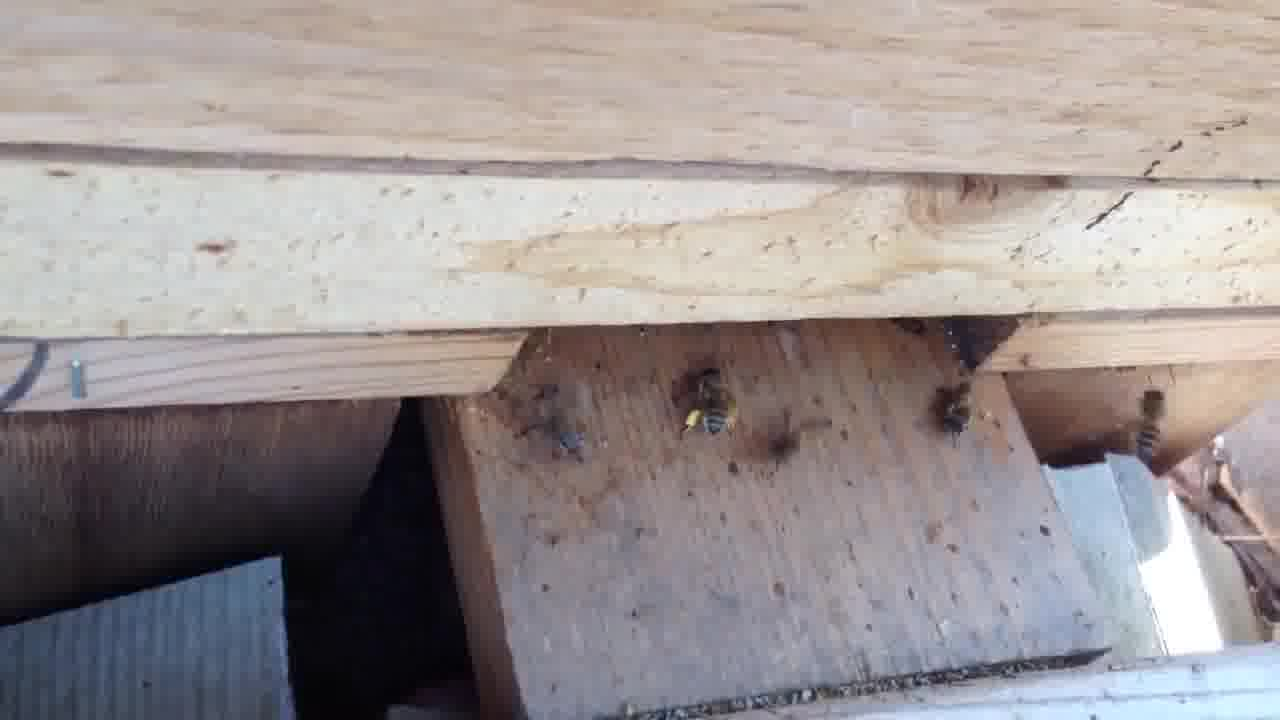pollen: (686, 363, 736, 445)
